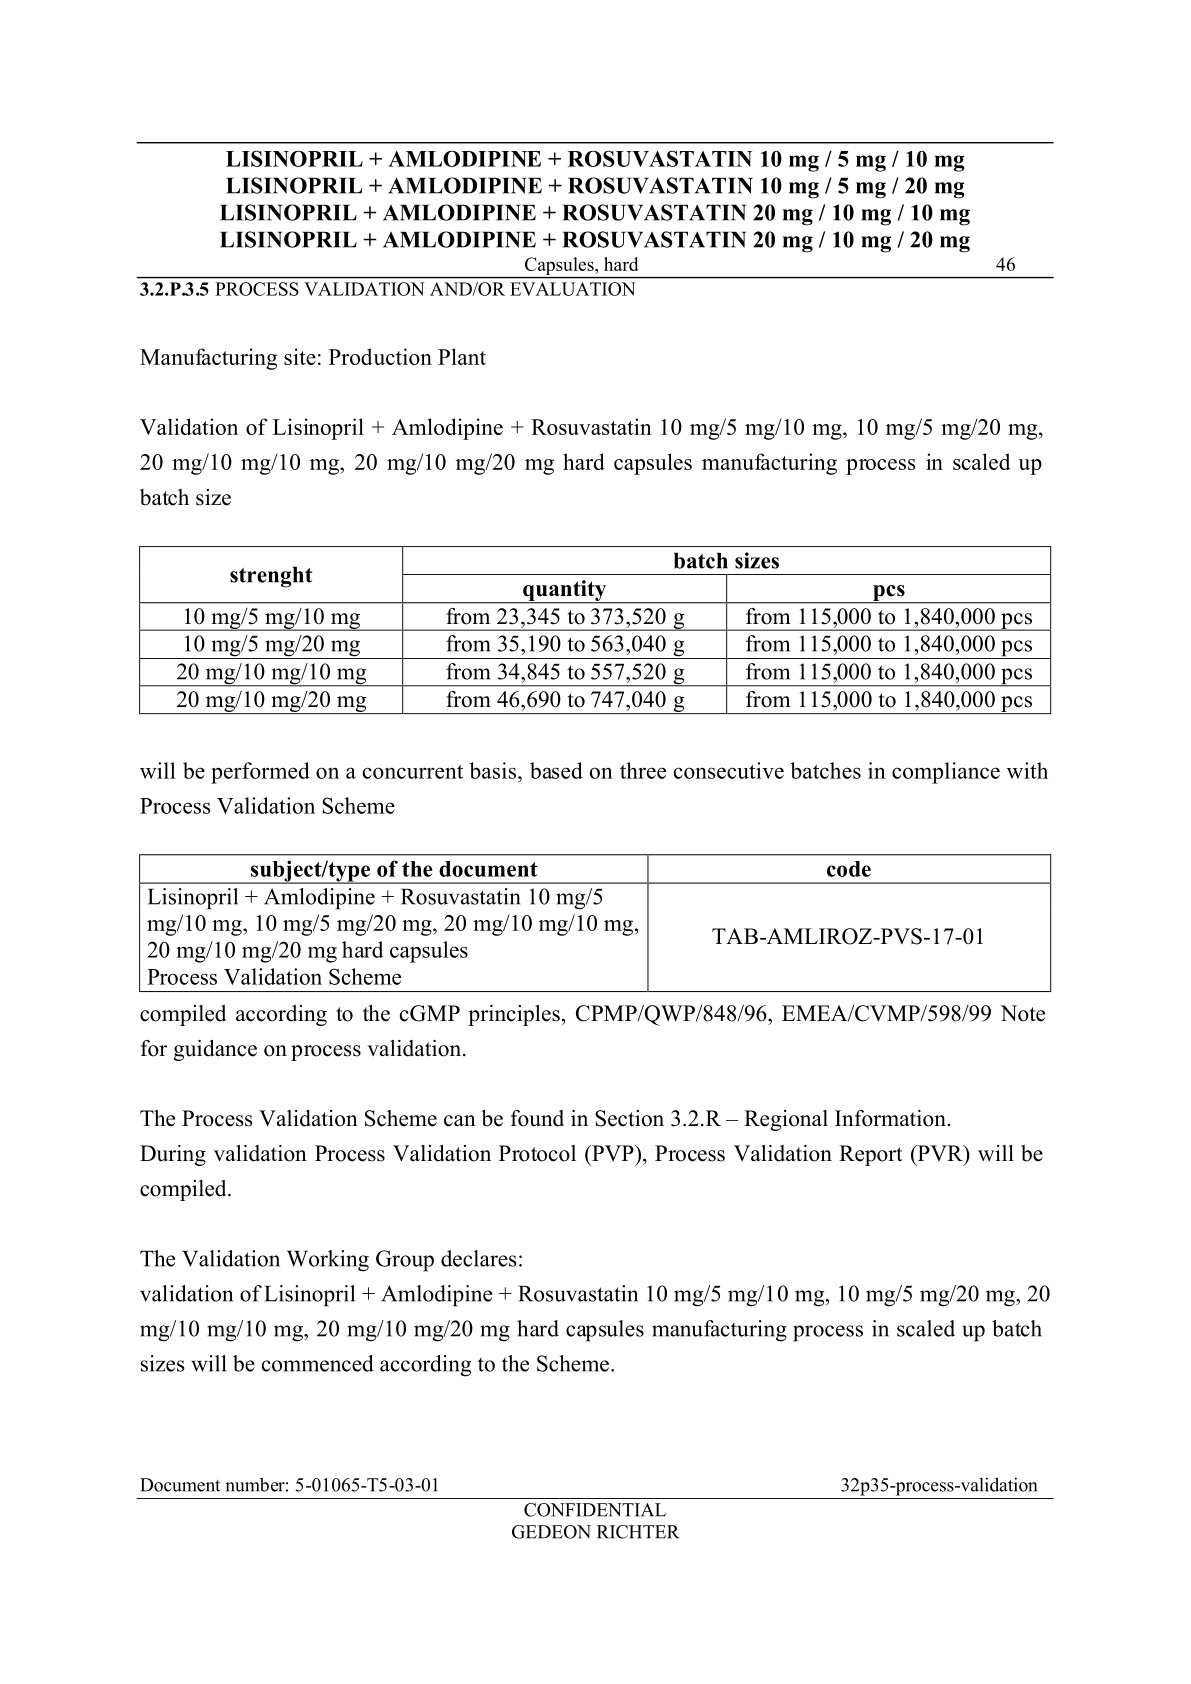full_lined: (138, 853, 1052, 992)
merged_cells: (137, 544, 1052, 715)
